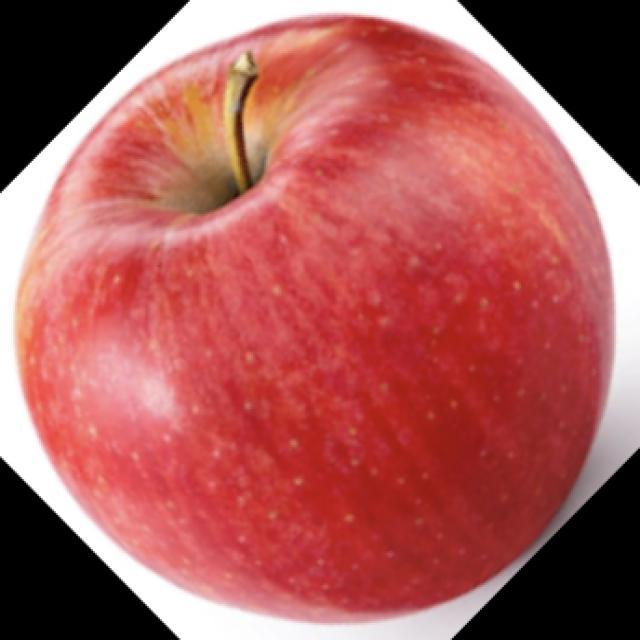Fresh Apple: (16, 11, 611, 640)
